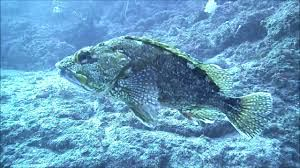saba: (55, 32, 274, 140)
